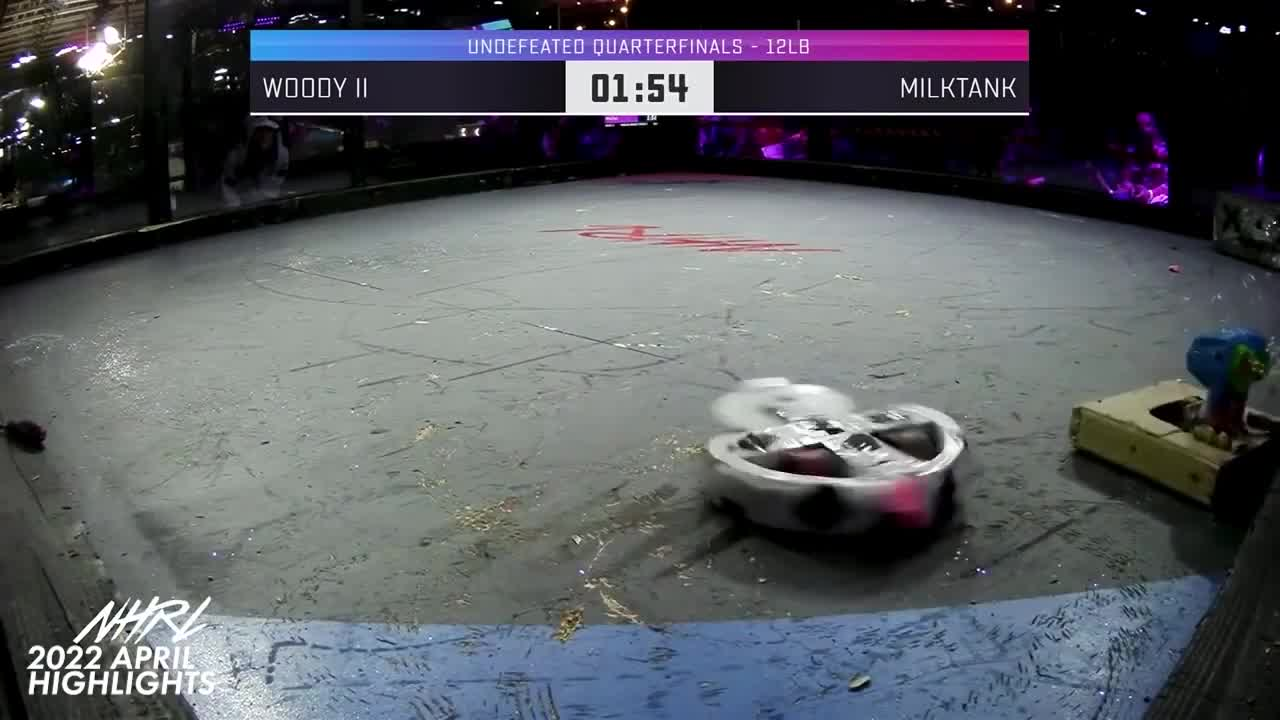combatbot: (701, 377, 968, 563), (1068, 325, 1280, 516)
debris: (1, 419, 48, 452)
housebot: (1209, 191, 1280, 276)
